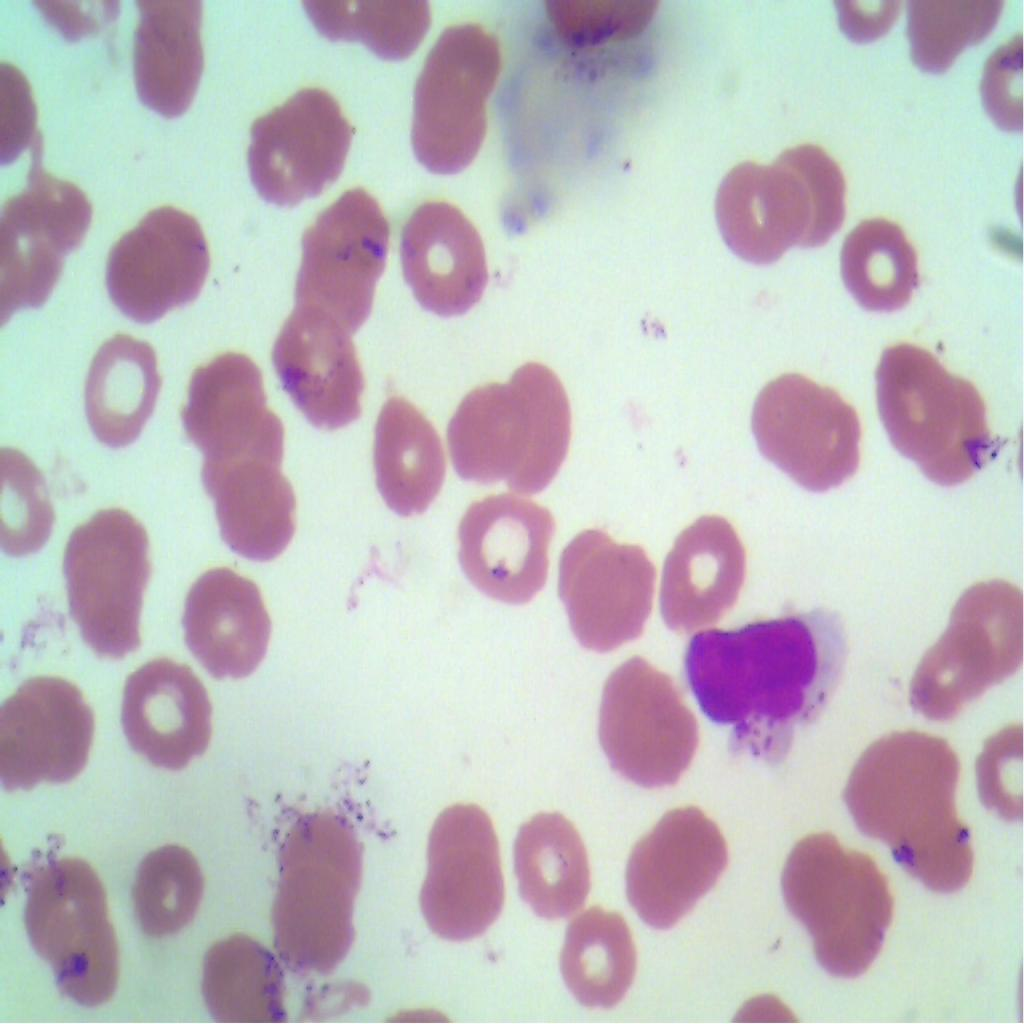Eritrosit: (594, 654, 706, 793), (58, 500, 158, 655), (746, 371, 872, 491), (244, 74, 356, 204), (112, 645, 218, 779), (551, 518, 658, 648), (626, 802, 731, 931), (76, 319, 169, 462), (651, 508, 753, 634), (175, 565, 282, 685), (102, 205, 208, 325), (451, 492, 558, 608), (494, 349, 575, 501), (513, 804, 606, 928), (364, 387, 449, 521), (272, 304, 366, 425), (850, 727, 960, 829), (711, 154, 809, 266), (869, 332, 955, 455), (810, 855, 896, 978), (119, 2, 206, 122), (406, 200, 496, 314), (268, 865, 356, 981), (891, 790, 979, 900), (773, 134, 851, 252), (294, 239, 372, 357), (216, 454, 302, 559), (558, 908, 638, 1018), (206, 395, 291, 498), (403, 79, 488, 181), (11, 674, 89, 785), (273, 812, 369, 901), (418, 848, 506, 945), (311, 184, 394, 284), (0, 438, 62, 571), (0, 194, 74, 305), (24, 852, 106, 950), (193, 941, 289, 1023), (848, 214, 922, 319), (943, 577, 1023, 671), (919, 387, 991, 491), (58, 905, 128, 1010), (446, 381, 522, 477), (429, 14, 501, 114), (188, 351, 262, 448), (130, 835, 208, 924), (914, 618, 979, 712), (424, 804, 498, 886), (791, 832, 854, 918)
Limfosit: (681, 601, 843, 754)
